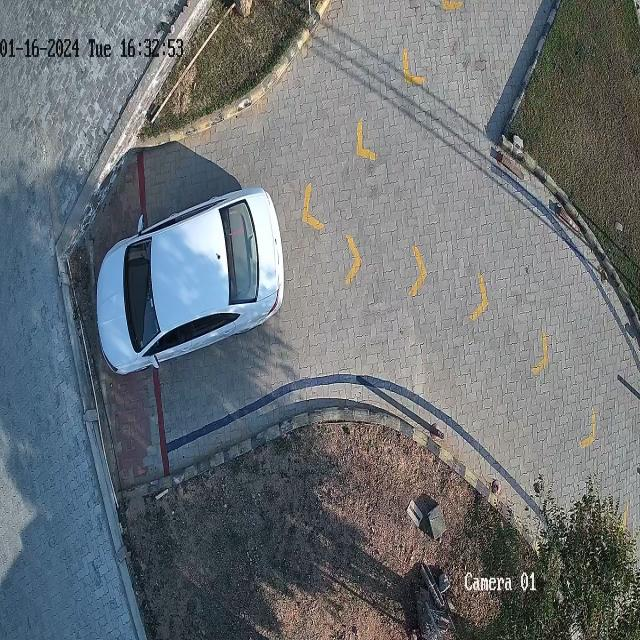car: (95, 184, 284, 376)
